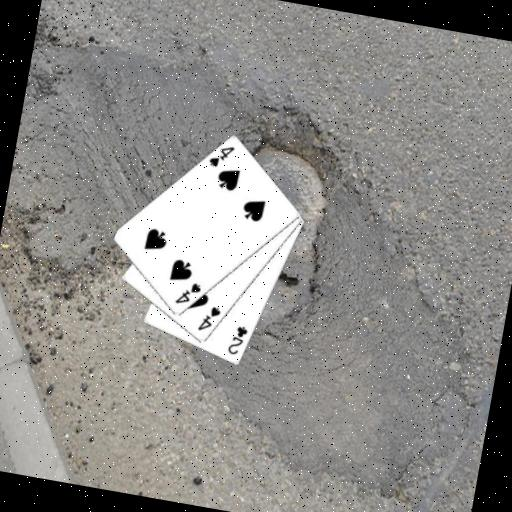2C: (224, 321, 250, 358)
4S: (171, 277, 203, 309), (204, 139, 236, 171), (194, 301, 223, 335)
